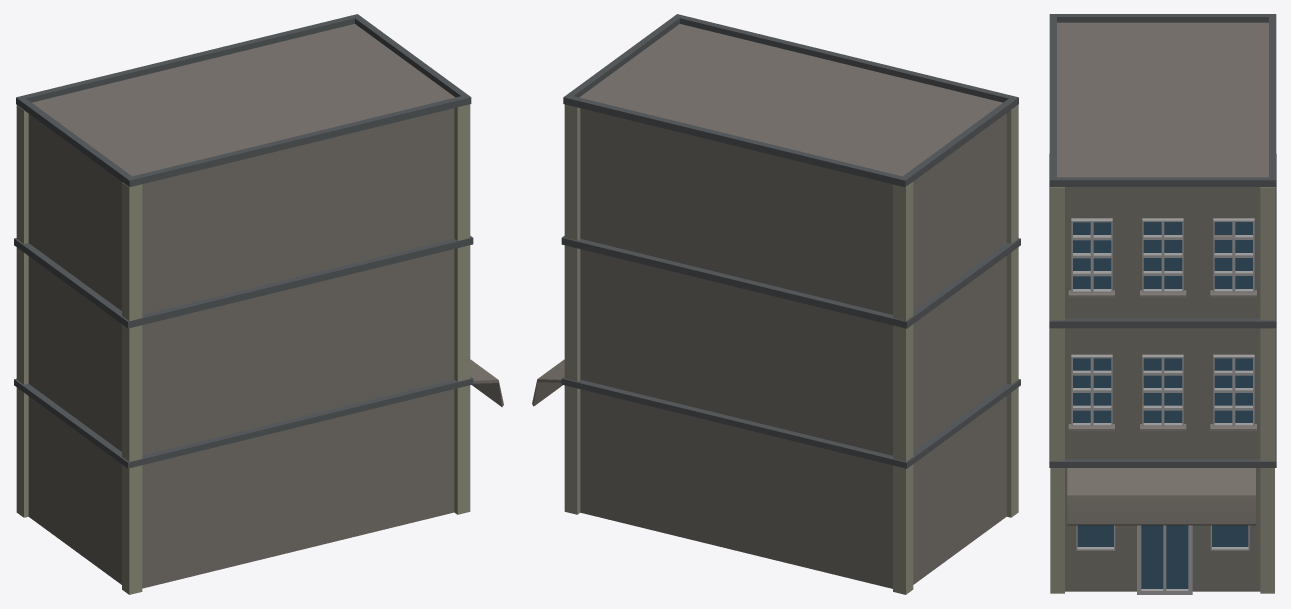
File: Bakery.fbx
3 renders of one model, left to right at view 1: azimuth 30°, elevation 25°; view 2: azimuth 150°, elevation 25°; view 3: azimuth 270°, elevation 25°, orthographic.
Parts seen in each view (by area): view 1: pCube8; view 2: pCube8; view 3: pCube8.
Boxes of the visible parts, <box> form: pCube8: <box>14,14,503,594</box>; pCube8: <box>532,14,1020,594</box>; pCube8: <box>1049,14,1276,594</box>.
Size of the model in its own units: 30.05 by 30.92 by 15.41.
